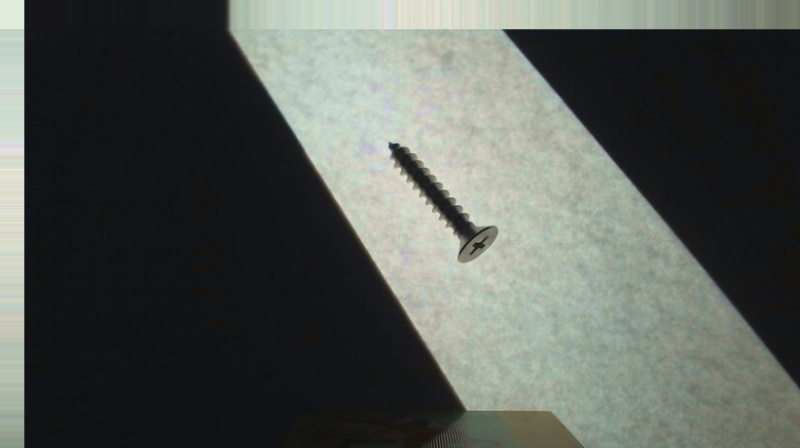S001: (386, 140, 501, 267)
